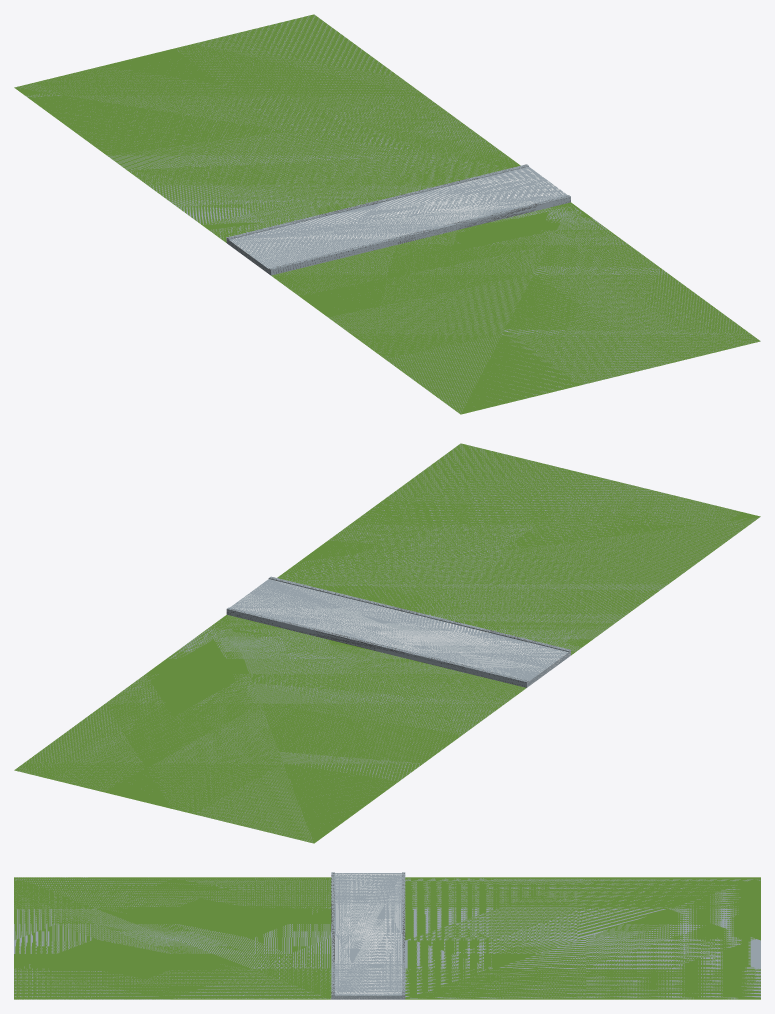
Rendered from road.fbx.
3 views of the same model, one above another, from view 1: azimuth 30°, elevation 25°; view 2: azimuth 150°, elevation 25°; view 3: azimuth 270°, elevation 25° (orthographic). The views are drawn at different scales.
Parts seen in each view (by area): view 1: Model; view 2: Model; view 3: Model.
Part boxes in pixels (bbox=[...]): Model: bbox=[14, 14, 760, 414]; Model: bbox=[14, 443, 760, 843]; Model: bbox=[14, 872, 760, 999].
Size of the model in its own units: 97.96 by 1.81 by 253.
